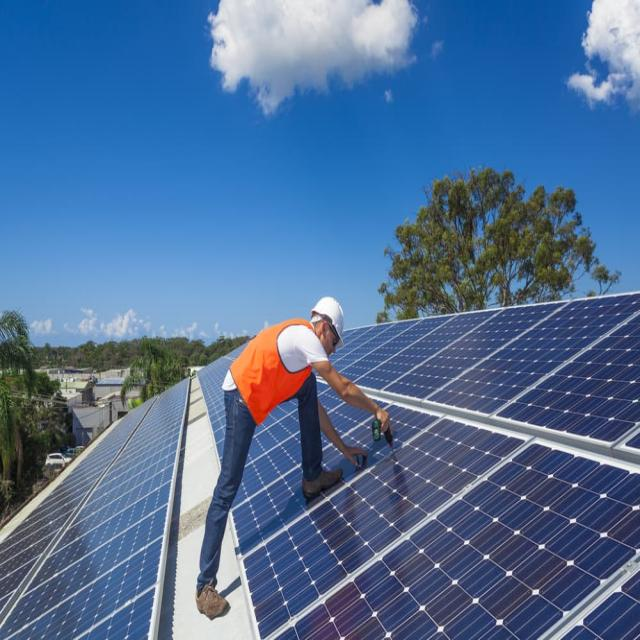clean-solar-panel: (1, 293, 640, 639)
